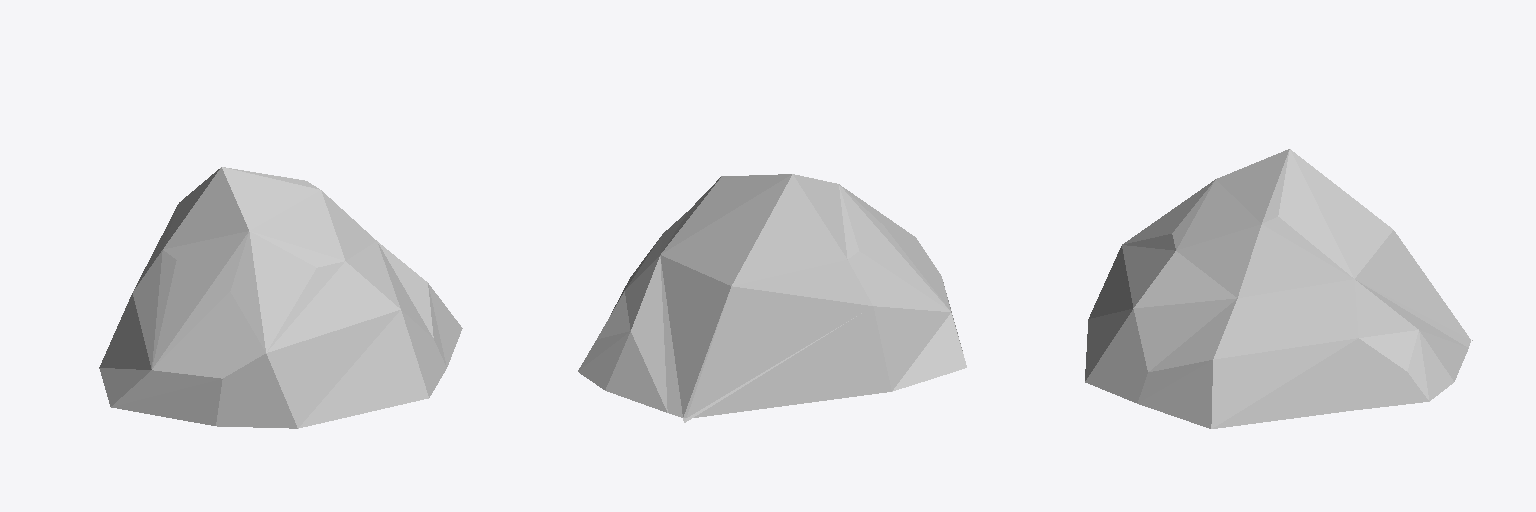
The model's file is Mountain_3.obj.
The picture shows the model from 3 angles: view 1: azimuth 30°, elevation 25°; view 2: azimuth 150°, elevation 25°; view 3: azimuth 270°, elevation 25°; orthographic projection.
Parts seen in each view (by area): view 1: Cube.079_Cube.228; view 2: Cube.079_Cube.228; view 3: Cube.079_Cube.228.
Boxes of the visible parts, x1,y1,x2,y2 form: Cube.079_Cube.228: [99, 167, 462, 428]; Cube.079_Cube.228: [578, 174, 966, 422]; Cube.079_Cube.228: [1085, 149, 1472, 428].
Size of the model in its own units: 75.29 by 38.73 by 73.83.